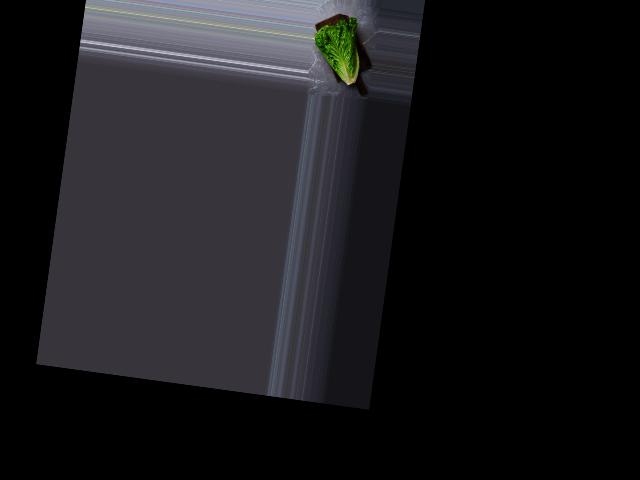lettuce: (309, 12, 373, 90)
